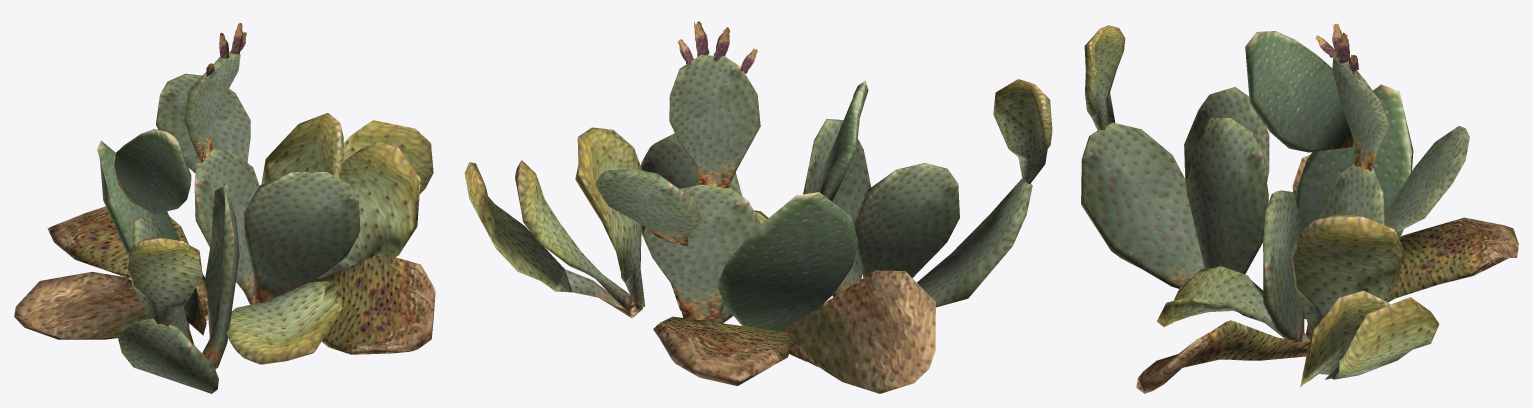
Rendered from DesertPlant05C.FBX.
3 views of the same model, side by side, from view 1: azimuth 30°, elevation 25°; view 2: azimuth 150°, elevation 25°; view 3: azimuth 270°, elevation 25° (orthographic). The views are drawn at different scales.
Parts seen in each view (by area): view 1: DesertPlant05C; view 2: DesertPlant05C; view 3: DesertPlant05C.
Part boxes in pixels (box(x1,y1,x2,y2)): DesertPlant05C: box(14, 23, 435, 393); DesertPlant05C: box(464, 21, 1052, 393); DesertPlant05C: box(1081, 23, 1518, 393).
Bounding box in the file's own units: 5.41 × 3.65 × 4.45.
Materials: 1 (1 with a texture image).
